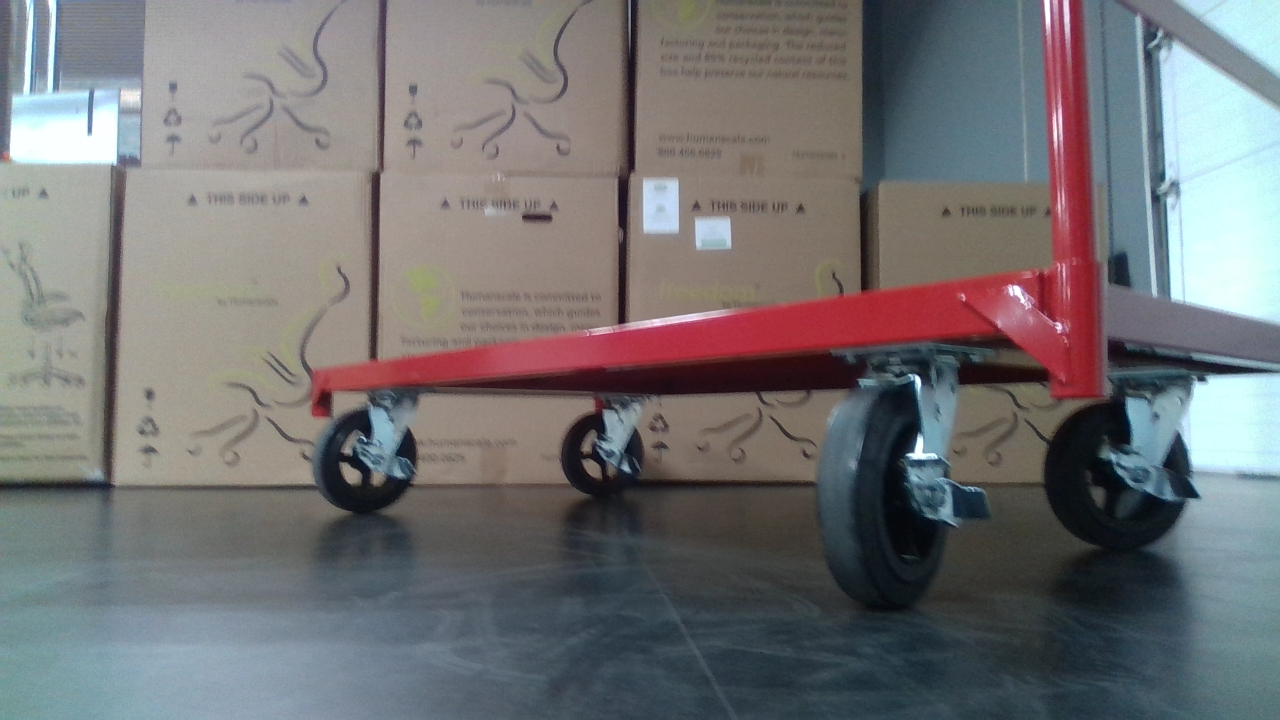Dolly: (303, 0, 1280, 605)
Wheel: (805, 391, 947, 605), (1040, 399, 1195, 546), (315, 406, 419, 511), (557, 409, 646, 495)
